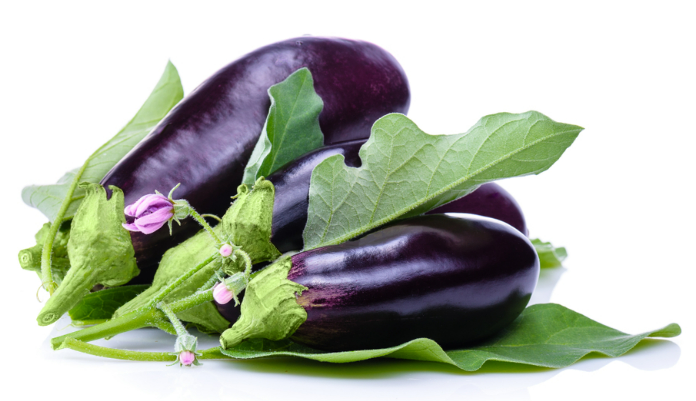catim: (27, 30, 420, 278), (132, 187, 533, 331), (218, 212, 554, 351)
